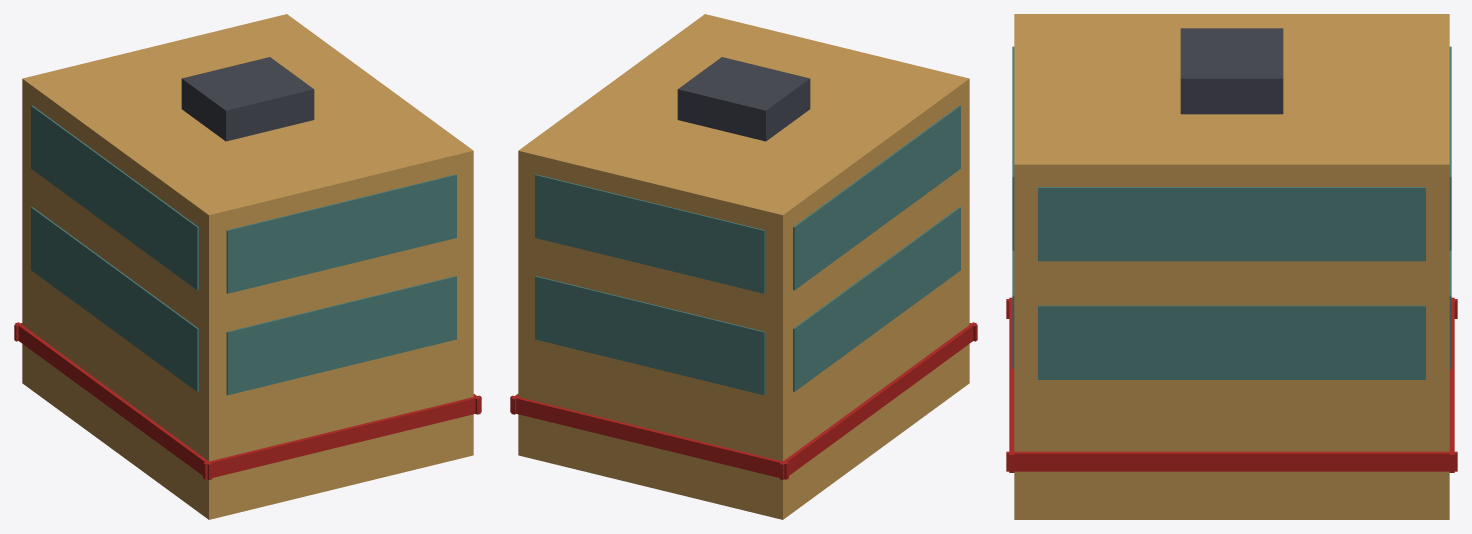
Rendered from shop_c.obj.
3 views of the same model, side by side, from view 1: azimuth 30°, elevation 25°; view 2: azimuth 150°, elevation 25°; view 3: azimuth 270°, elevation 25° (orthographic). The views are drawn at different scales.
Parts seen in each view (by area): view 1: Cube; view 2: Cube; view 3: Cube.
Boxes of the visible parts, bbox=[...] form: Cube: bbox=[14, 14, 481, 519]; Cube: bbox=[510, 14, 977, 519]; Cube: bbox=[1006, 14, 1457, 519].
Bounding box in the file's own units: 9.4 × 10.9 × 11.4.
